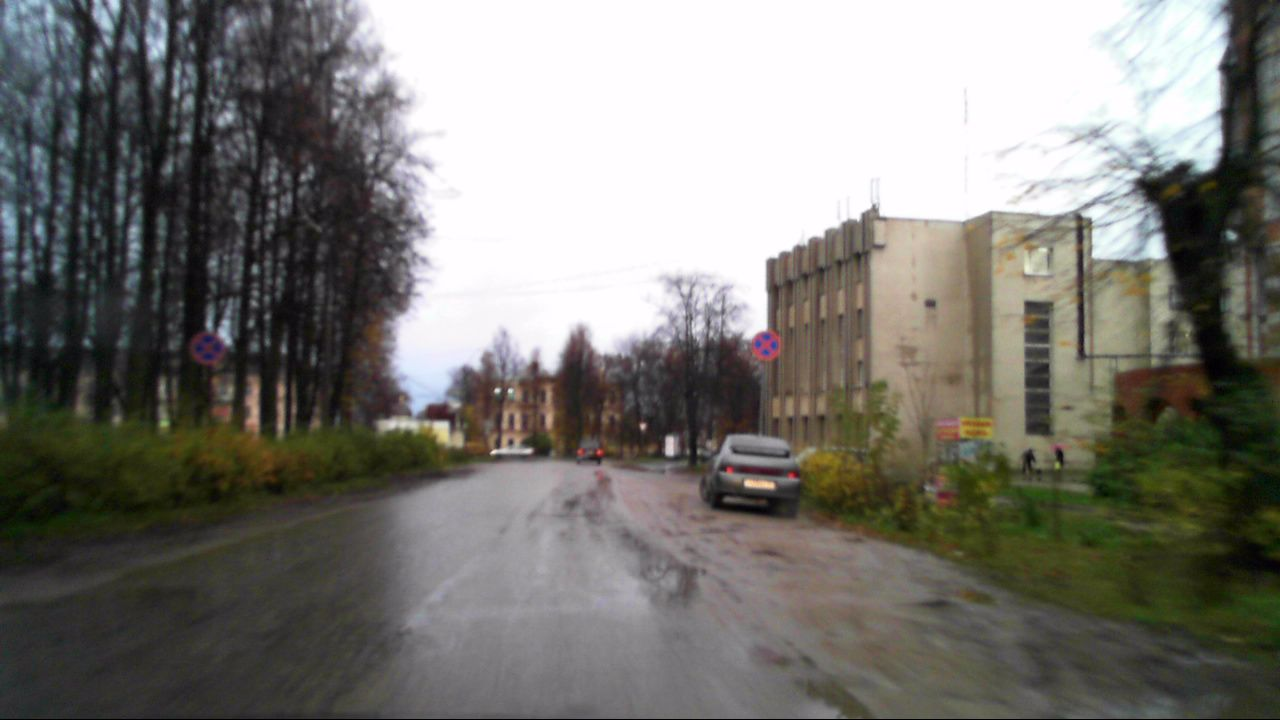No Parking: (750, 331, 782, 361)
